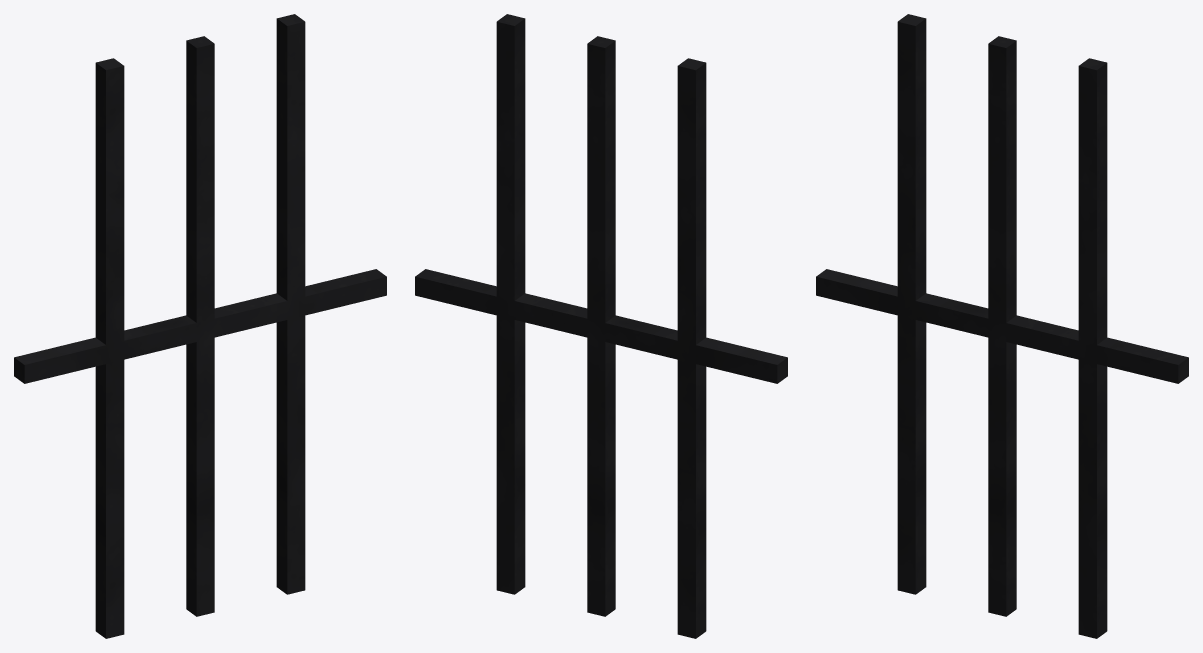
The model's file is window_bars_standard.glb.
3 views of the same model, side by side, from view 1: azimuth 30°, elevation 25°; view 2: azimuth 150°, elevation 25°; view 3: azimuth 330°, elevation 25° (orthographic).
Parts seen in each view (by area): view 1: window_bars_standard; view 2: window_bars_standard; view 3: window_bars_standard.
Part boxes in pixels (x1,y1,x2,y2): window_bars_standard: [14, 14, 386, 638]; window_bars_standard: [415, 14, 787, 638]; window_bars_standard: [816, 14, 1188, 638].
Size of the model in its own units: 0.8 by 1.2 by 0.04.
Materials: 1 (1 with a texture image).
